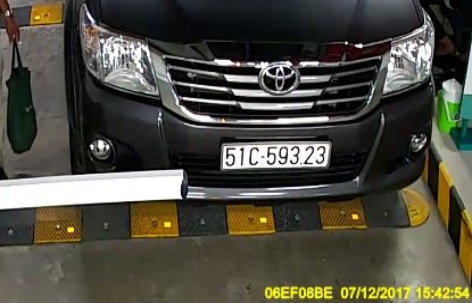plate: (216, 132, 339, 171)
